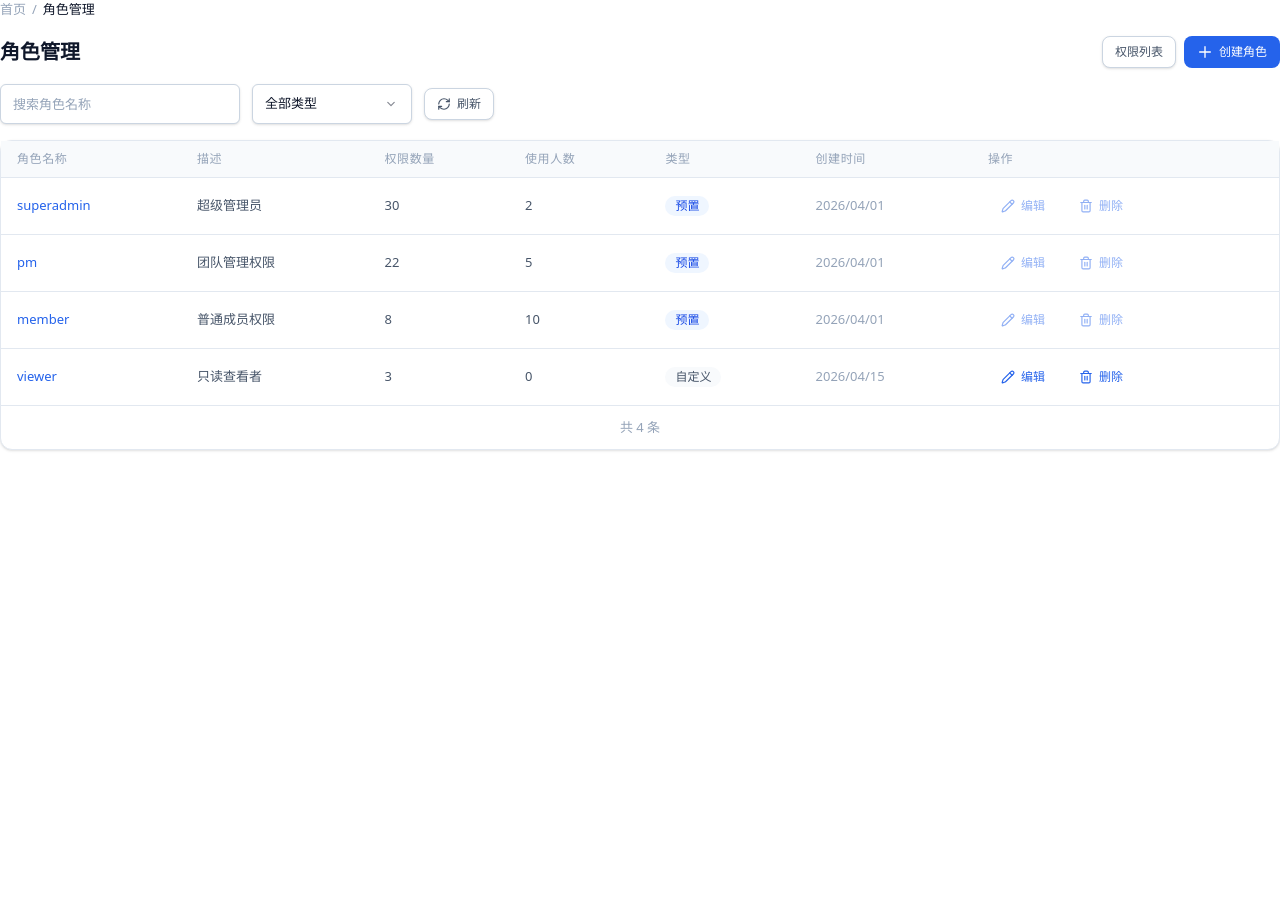
Test: RoleManagementPage › opens edit dialog with role name in title
Expected: the button "superadmin" is shown, [17,196,90,215]
Click the button "编辑" in the row of "只读查看者" at (1023, 376), box [988,360,1058,392]
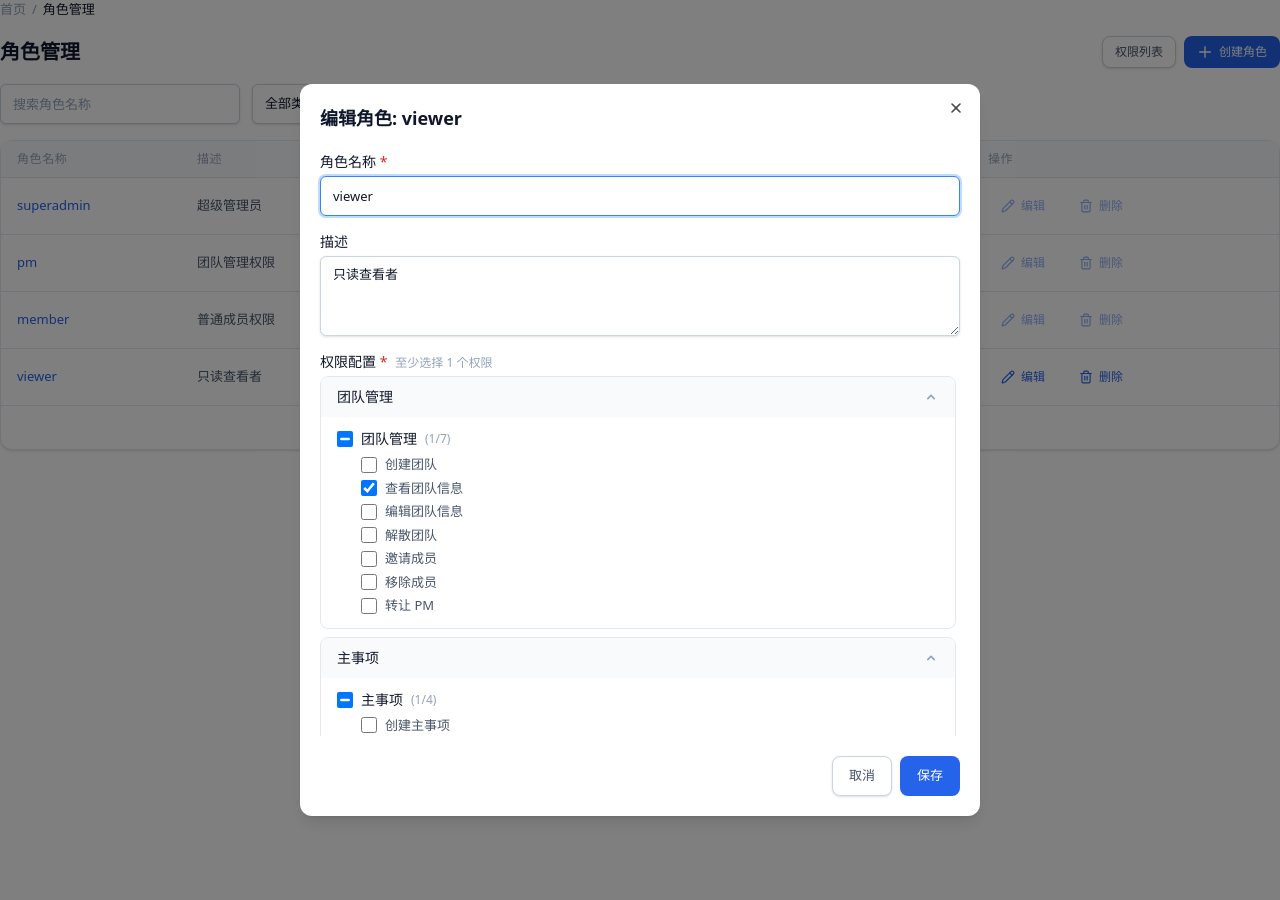
Result: the heading "编辑角色: viewer" is shown at [320,106,462,130]
